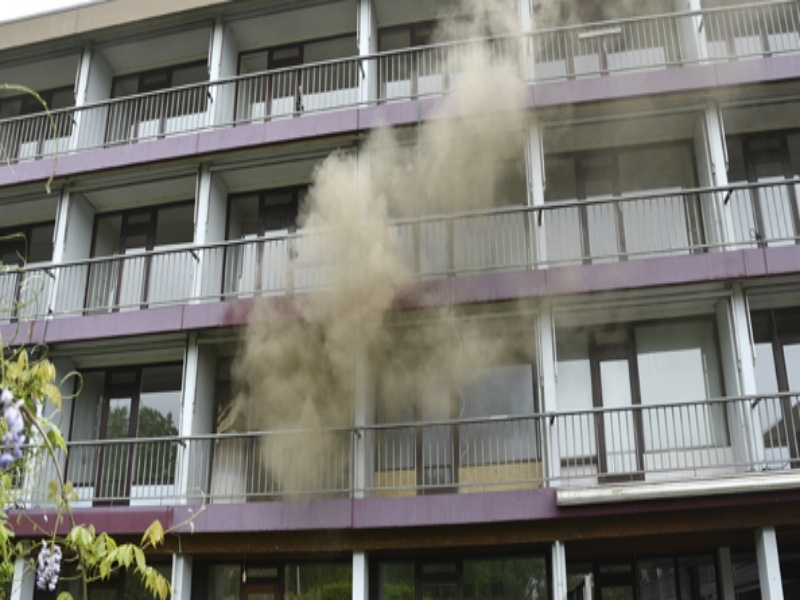smoke: (253, 176, 469, 438)
